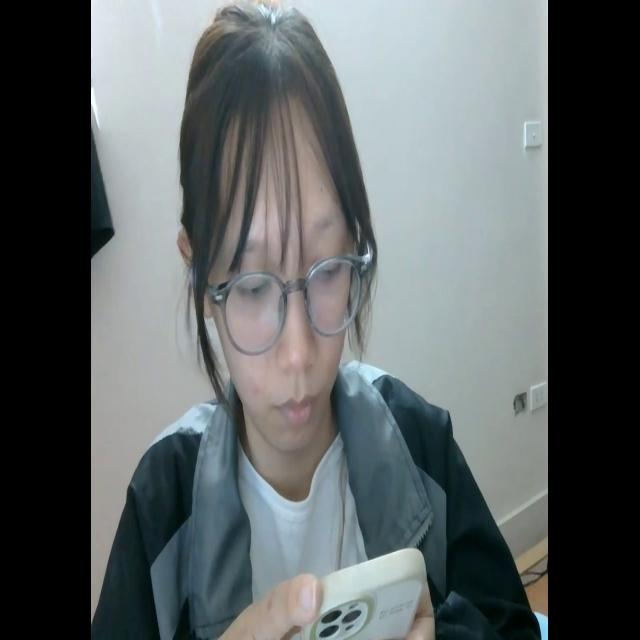phone: (283, 545, 426, 639)
student: (99, 6, 539, 640)
